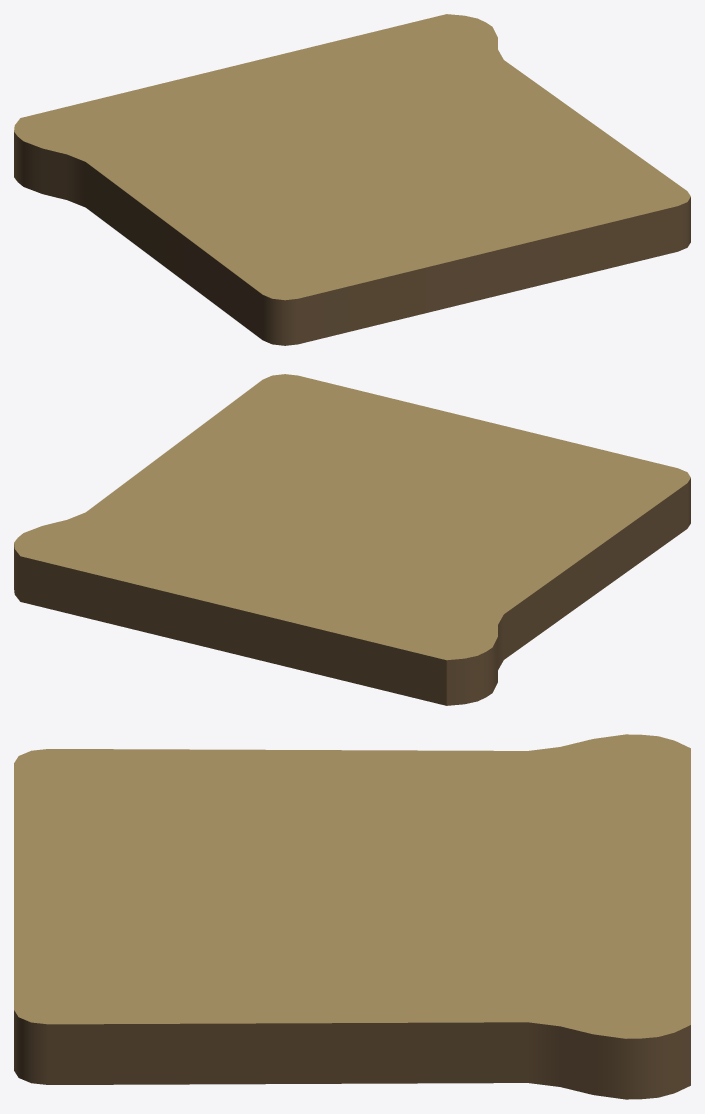
File: Pan Almuerzo.fbx
3 views of the same model, one above another, from view 1: azimuth 30°, elevation 25°; view 2: azimuth 150°, elevation 25°; view 3: azimuth 270°, elevation 25° (orthographic). The views are drawn at different scales.
Visible parts, largest first — view 1: pan.002; view 2: pan.002; view 3: pan.002.
Boxes of the visible parts, x1,y1,x2,y2 form: pan.002: (14,14,690,345); pan.002: (14,374,690,705); pan.002: (14,734,690,1099).
Bounding box in the file's own units: 6.45 × 0.6 × 6.06.
